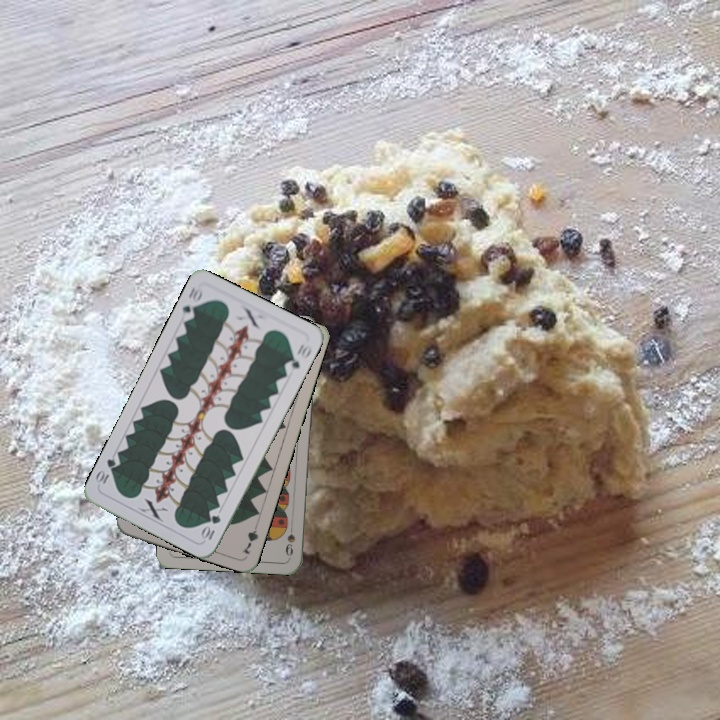G10: (178, 282, 205, 323), (198, 511, 223, 543)
G7: (238, 518, 261, 557)
S9: (282, 530, 298, 559)
